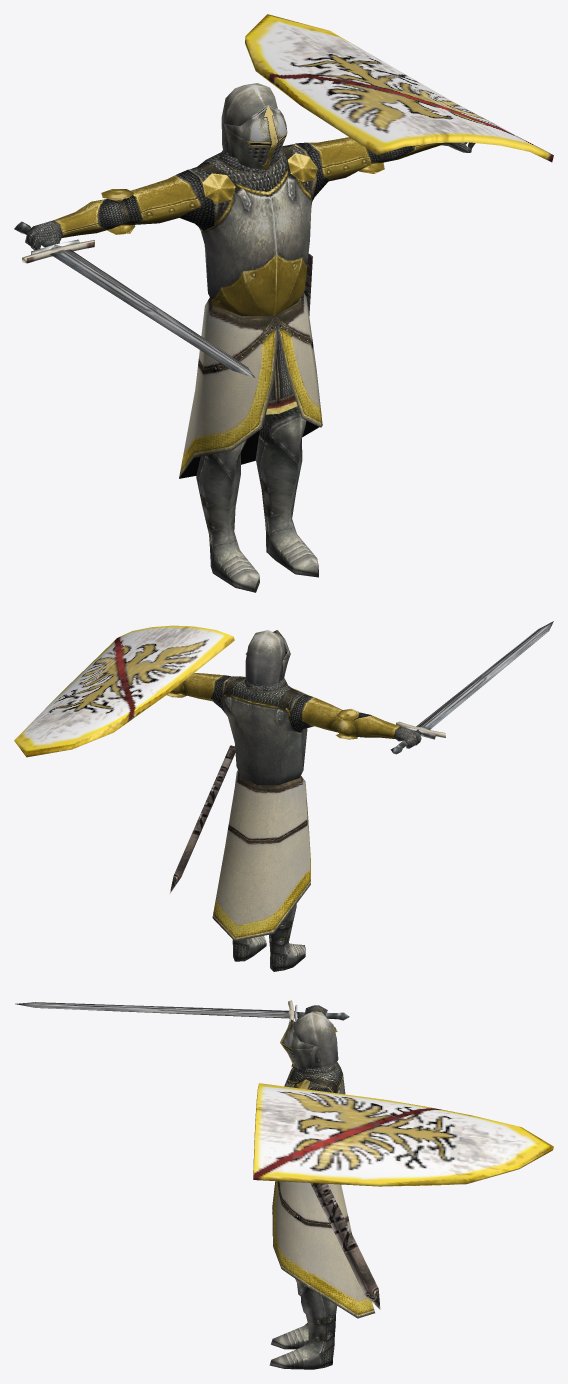
Rendered from paladin_skin.fbx.
The picture shows the model from 3 angles, top to bottom: view 1: azimuth 30°, elevation 25°; view 2: azimuth 150°, elevation 25°; view 3: azimuth 270°, elevation 25°; orthographic projection. The views are drawn at different scales.
Visible parts, largest first — view 1: knight; view 2: knight; view 3: knight.
Boxes of the visible parts, x1,y1,x2,y2 form: knight: (14, 14, 553, 592); knight: (14, 621, 553, 971); knight: (15, 1000, 553, 1369).
Bounding box in the file's own units: 25.3 × 22.99 × 32.95.
Materials: 1 (1 with a texture image).
